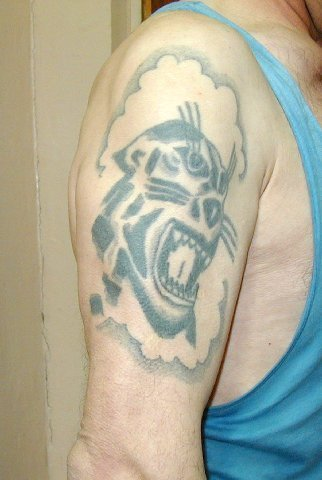tatu5_tigr: (94, 102, 237, 344)
